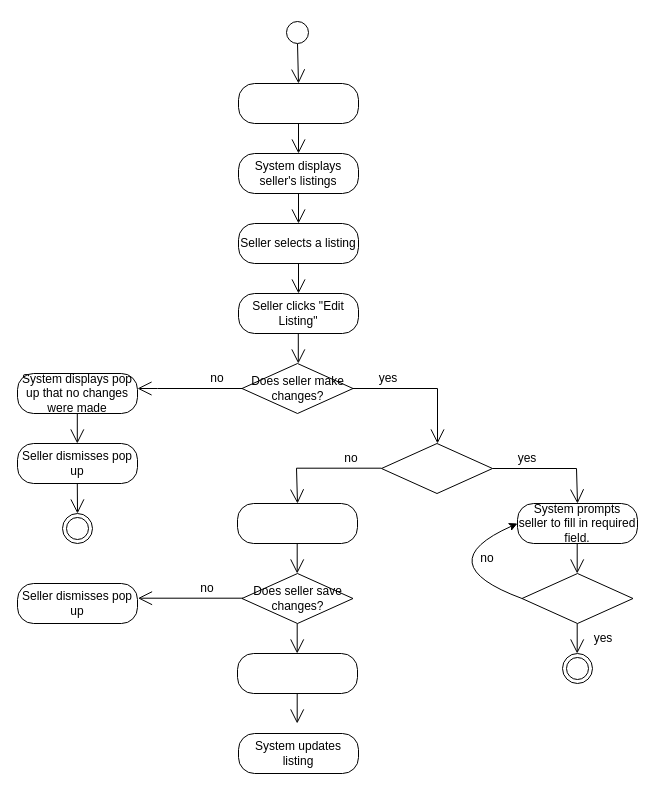
The diagram is 655 pixels wide and 791 high, and some of its shapes have lost their labels. Here are the shapes that lost their labels. From the top down, the centre of each, then its label:
(298,103): Seller clicks "View My Listing"
(436,468): Does seller clear a required field?
(297,523): Seller makes changes to non required fields
(577,598): Does seller fill in required field?
(297,673): System displays pop up saying changes have been saved
